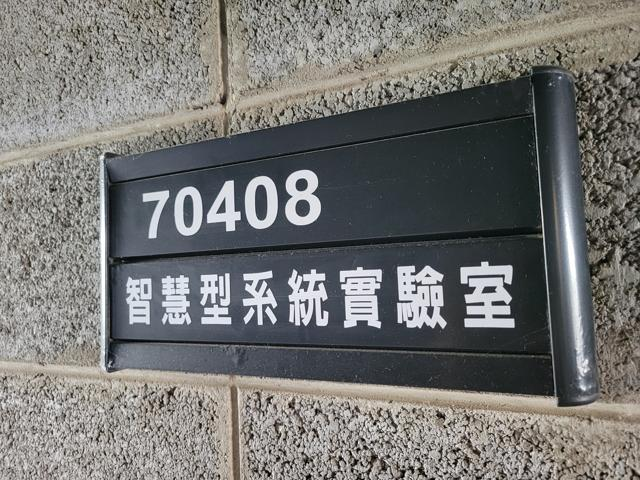doorplate: (92, 63, 605, 412)
